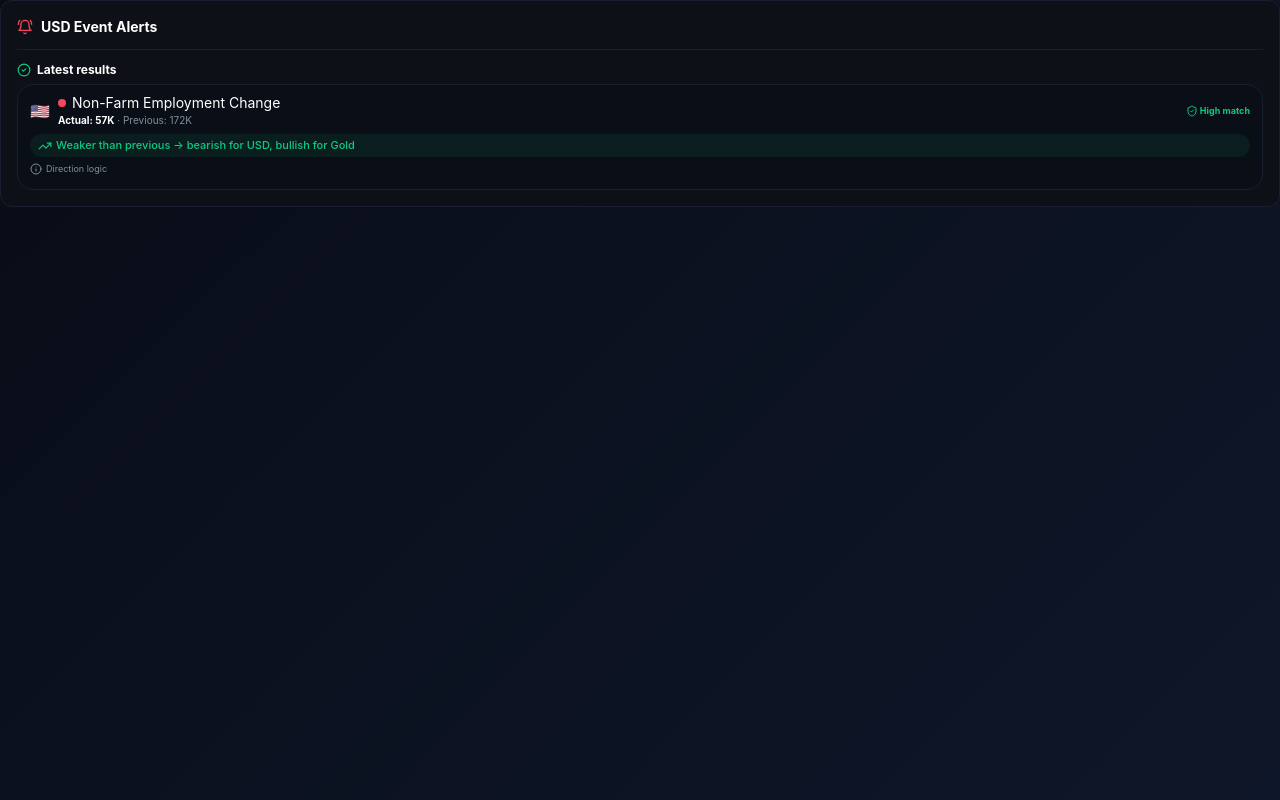
Test: EventAlertBanner — method tooltip EN + KU › EN direction: trigger label + tooltip content in English
Step 1. Hover over the button with aria-label "how this call was made" → (69, 169), box [30, 162, 107, 176]
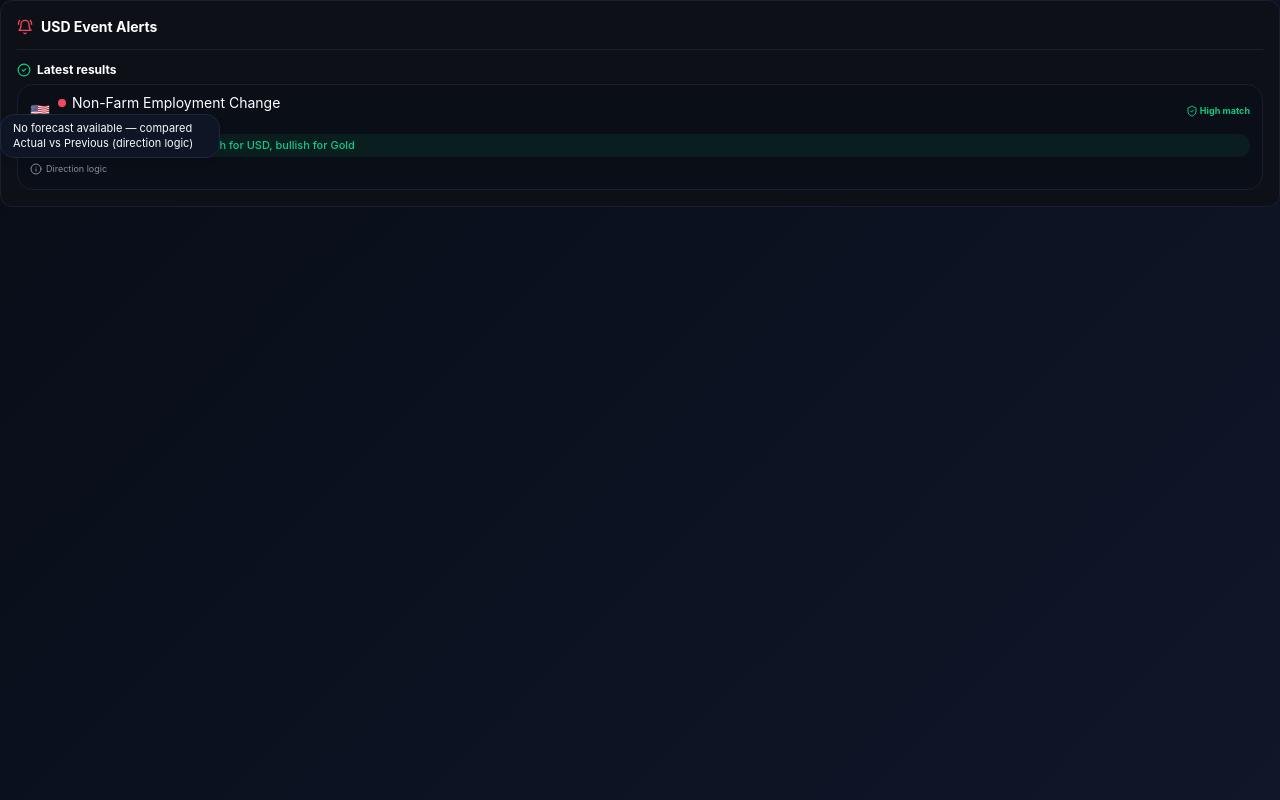
Expected: the tooltip "No forecast available — compared Actual vs Previous (direction logic)" is shown, [0, 114, 220, 158]
